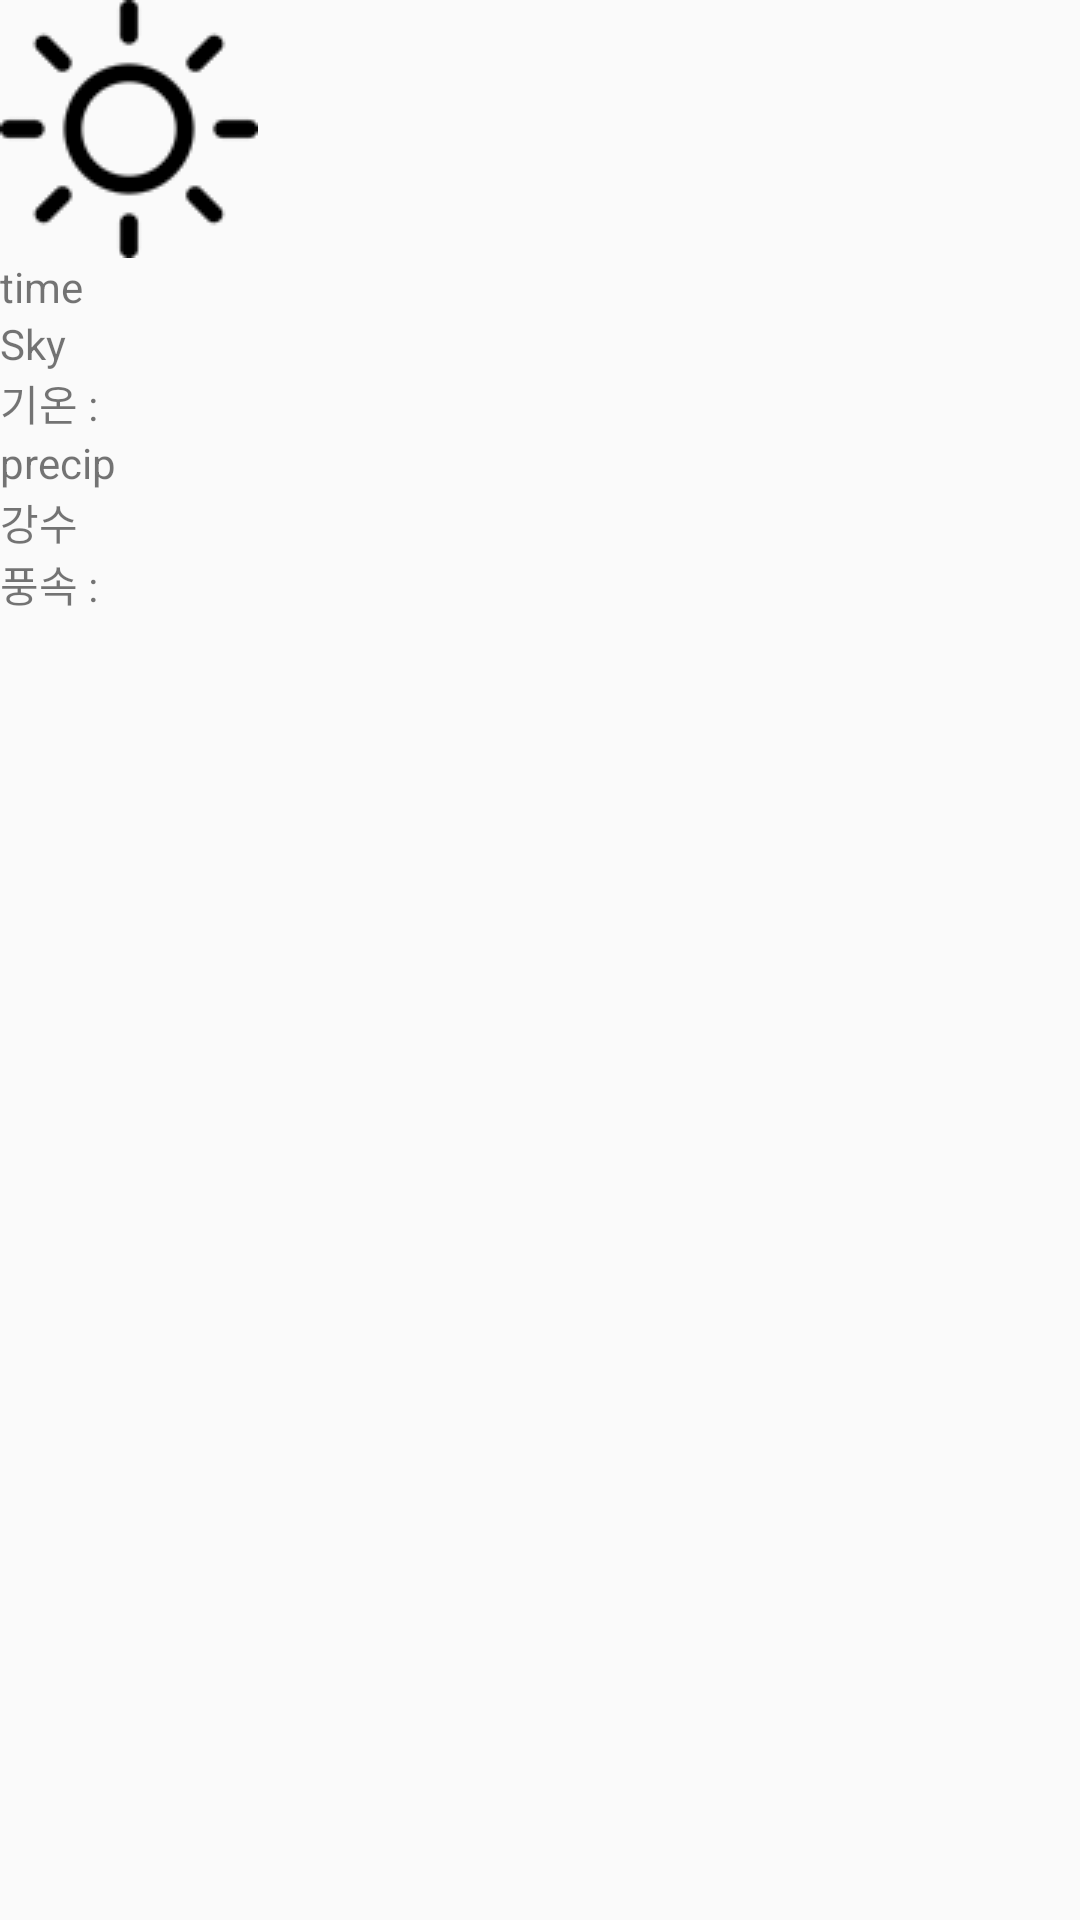

Locate icon controls on the screen. Image size 1080 × 1920, boxes as (x1, y1, x2, y2).
sun: (0, 0, 258, 258)
